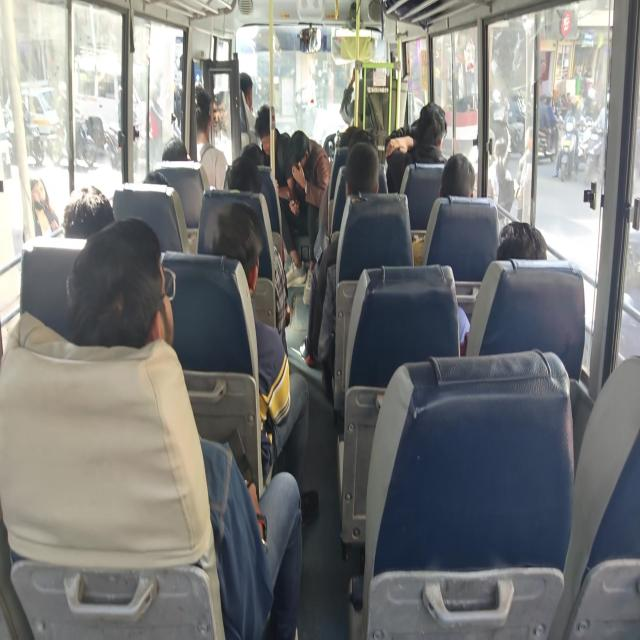person: (70, 270, 176, 353), (499, 233, 557, 286), (210, 217, 259, 278), (56, 174, 104, 228), (432, 146, 476, 201), (346, 156, 386, 201), (214, 161, 259, 201), (285, 132, 319, 182), (158, 125, 198, 167), (161, 131, 199, 172), (258, 112, 287, 165), (142, 163, 171, 207), (231, 134, 264, 168), (419, 116, 445, 159), (186, 92, 212, 133), (234, 75, 261, 112), (339, 124, 363, 158)
